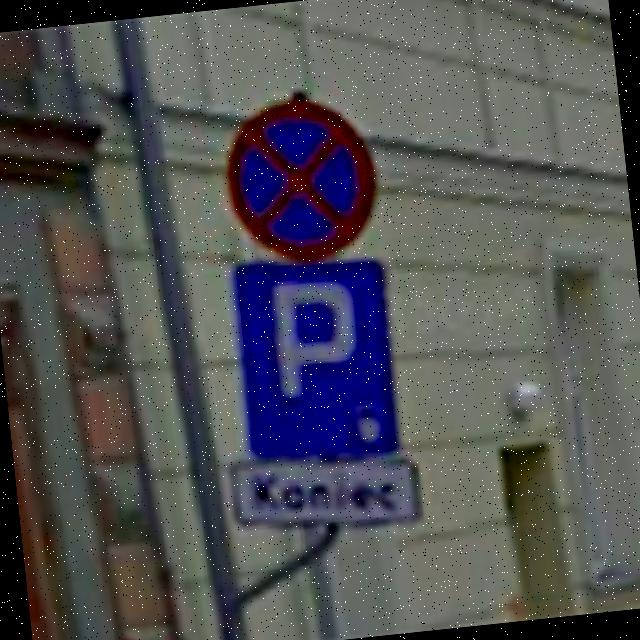Zakaz zatrzymywania sie: (215, 92, 388, 272)
